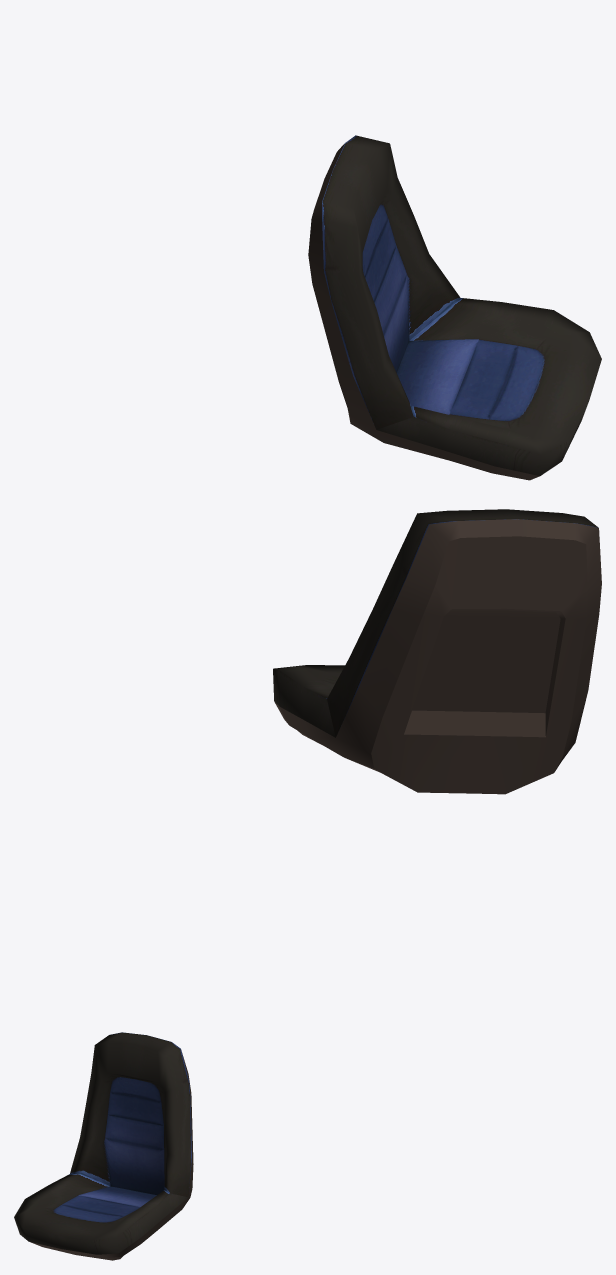
The model's file is seat.glb.
3 renders of one model, top to bottom at view 1: azimuth 30°, elevation 25°; view 2: azimuth 150°, elevation 25°; view 3: azimuth 270°, elevation 25°, orthographic. The views are drawn at different scales.
Visible parts, largest first — view 1: node_id40, node_id38; view 2: node_id38, node_id40; view 3: node_id40, node_id38.
Part boxes in pixels (left/top/right/bottom): node_id40: left=322, top=135, right=601, bottom=475; node_id38: left=308, top=143, right=539, bottom=480; node_id38: left=274, top=519, right=601, bottom=794; node_id40: left=273, top=509, right=598, bottom=737; node_id40: left=14, top=1032, right=191, bottom=1254; node_id38: left=30, top=1050, right=193, bottom=1260.
Size of the model in its own units: 0.2167 by 0.2101 by 0.6268.
3 materials, 3 textured.
